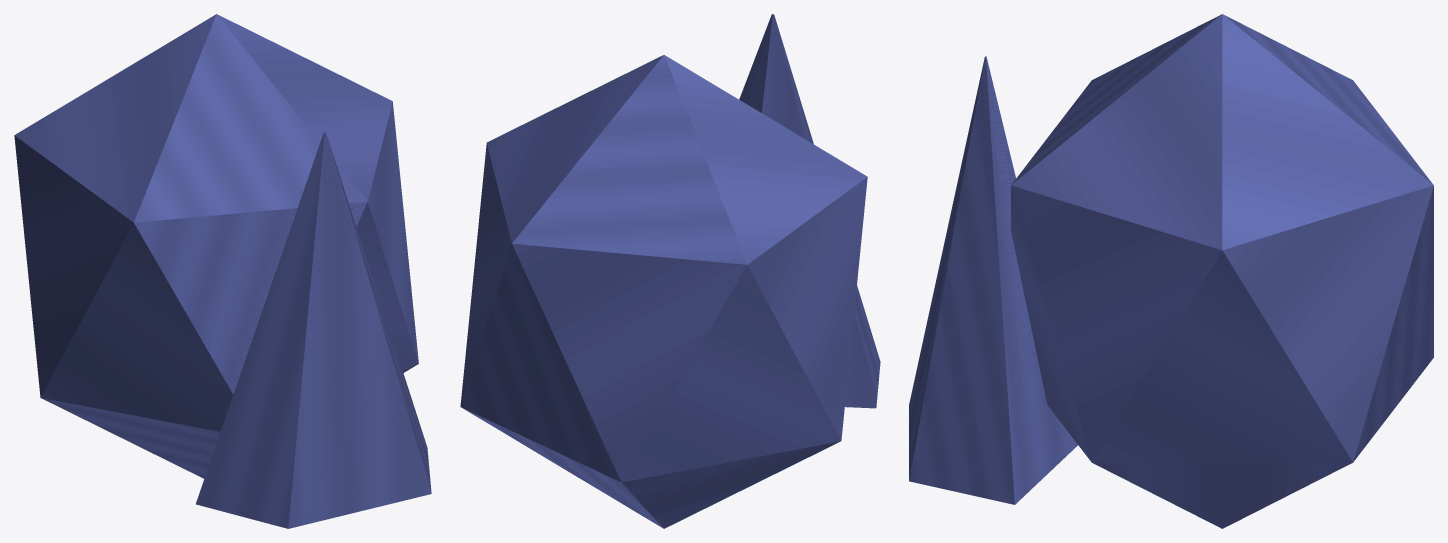
File: crit_power.glb
3 renders of one model, left to right at view 1: azimuth 30°, elevation 25°; view 2: azimuth 150°, elevation 25°; view 3: azimuth 270°, elevation 25°, orthographic. The views are drawn at different scales.
Parts seen in each view (by area): view 1: gear_crit_power; view 2: gear_crit_power; view 3: gear_crit_power.
Boxes of the visible parts, x1=… form: gear_crit_power: x1=14, y1=14, x2=431, y2=528; gear_crit_power: x1=460, y1=14, x2=880, y2=528; gear_crit_power: x1=909, y1=14, x2=1433, y2=528.
Size of the model in its own units: 0.1878 by 0.24 by 0.2217.
1 material, 1 textured.
